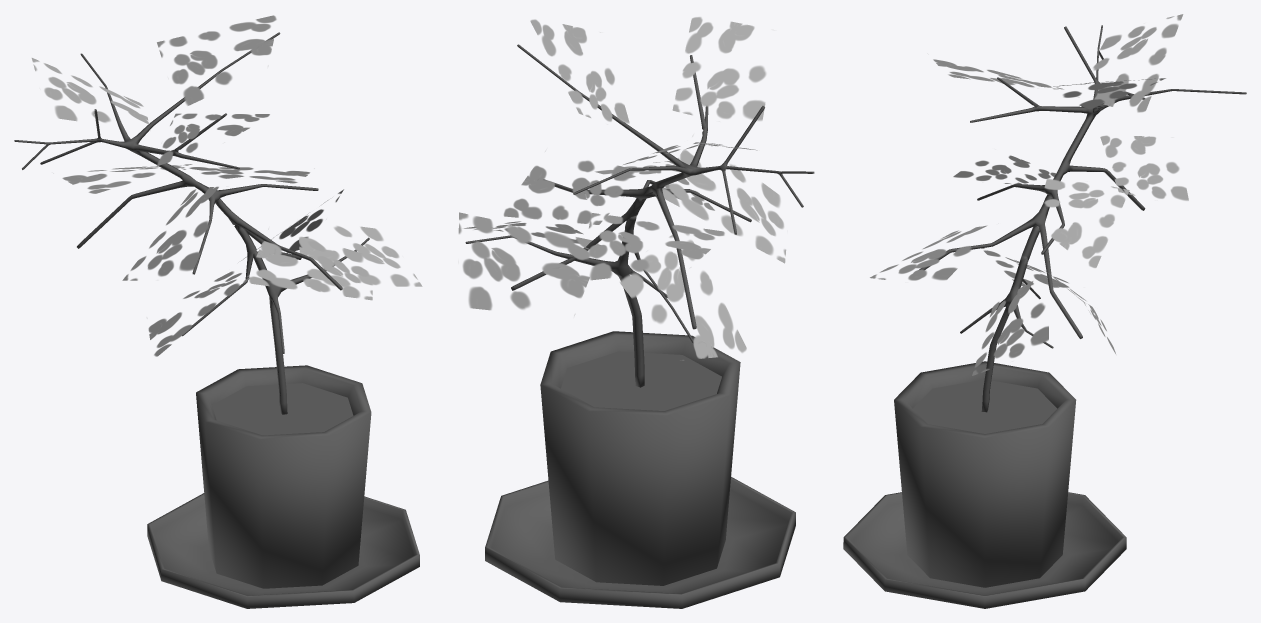
File: schefflera_octophylla.glb
The picture shows the model from 3 angles, left to right: view 1: azimuth 30°, elevation 25°; view 2: azimuth 150°, elevation 25°; view 3: azimuth 270°, elevation 25°; orthographic projection. The views are drawn at different scales.
Visible parts, largest first — view 1: schefflera_octophylla; view 2: schefflera_octophylla; view 3: schefflera_octophylla.
Boxes of the visible parts, <box> form: schefflera_octophylla: <box>14,15,422,608</box>; schefflera_octophylla: <box>458,17,814,608</box>; schefflera_octophylla: <box>843,14,1246,608</box>.
Size of the model in its own units: 0.3318 by 0.4573 by 0.3352.
Materials: 3 (1 with a texture image).
